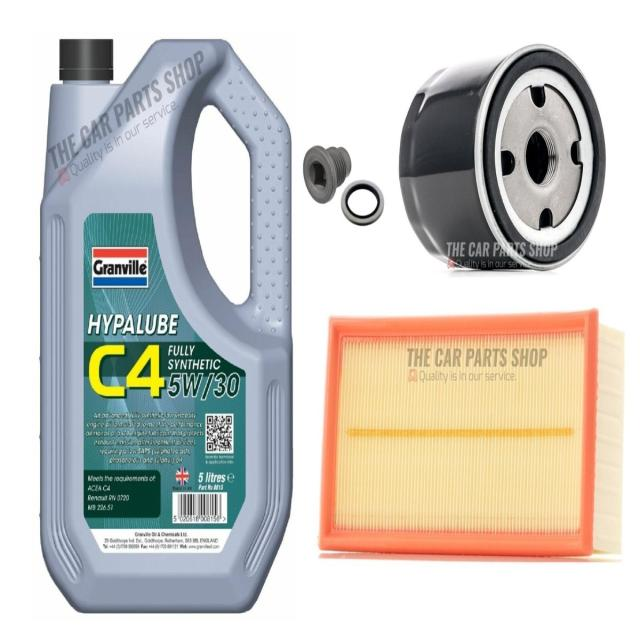air_filter: (316, 303, 629, 566)
motor_oil: (37, 36, 293, 613)
oil_filter: (390, 38, 610, 276)
